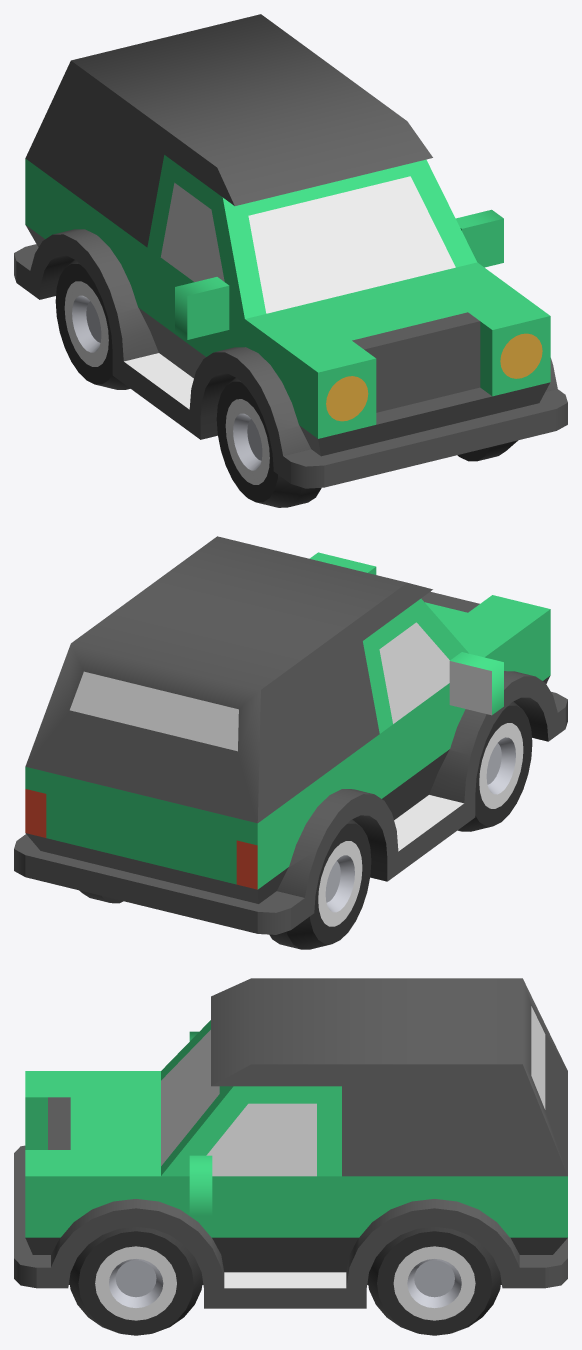
Rendered from suv.obj.
3 views of the same model, one above another, from view 1: azimuth 30°, elevation 25°; view 2: azimuth 150°, elevation 25°; view 3: azimuth 270°, elevation 25° (orthographic). The views are drawn at different scales.
Visible parts, largest first — view 1: body, wheel_frontRight, wheel_backRight; view 2: body, wheel_backRight, wheel_frontRight; view 3: body, wheel_frontLeft, wheel_backLeft.
Boxes of the visible parts, box(x1,y1,x2,y2) form: body: box(14, 14, 567, 488); wheel_frontRight: box(216, 377, 321, 507); wheel_backRight: box(55, 259, 130, 389); body: box(14, 536, 567, 934); wheel_backRight: box(269, 819, 371, 949); wheel_frontRight: box(457, 701, 532, 831); body: box(14, 978, 567, 1308); wheel_frontLeft: box(69, 1227, 202, 1335); wheel_backLeft: box(368, 1227, 501, 1335).
Size of the model in its own units: 1.5 by 1.3 by 2.45.
